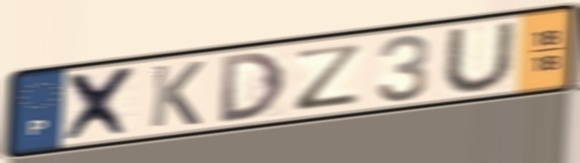3: (374, 32, 432, 103)
D: (218, 49, 290, 126)
K: (147, 59, 208, 130)
U: (439, 19, 519, 94)
X: (61, 63, 143, 145)
Z: (292, 40, 368, 113)
